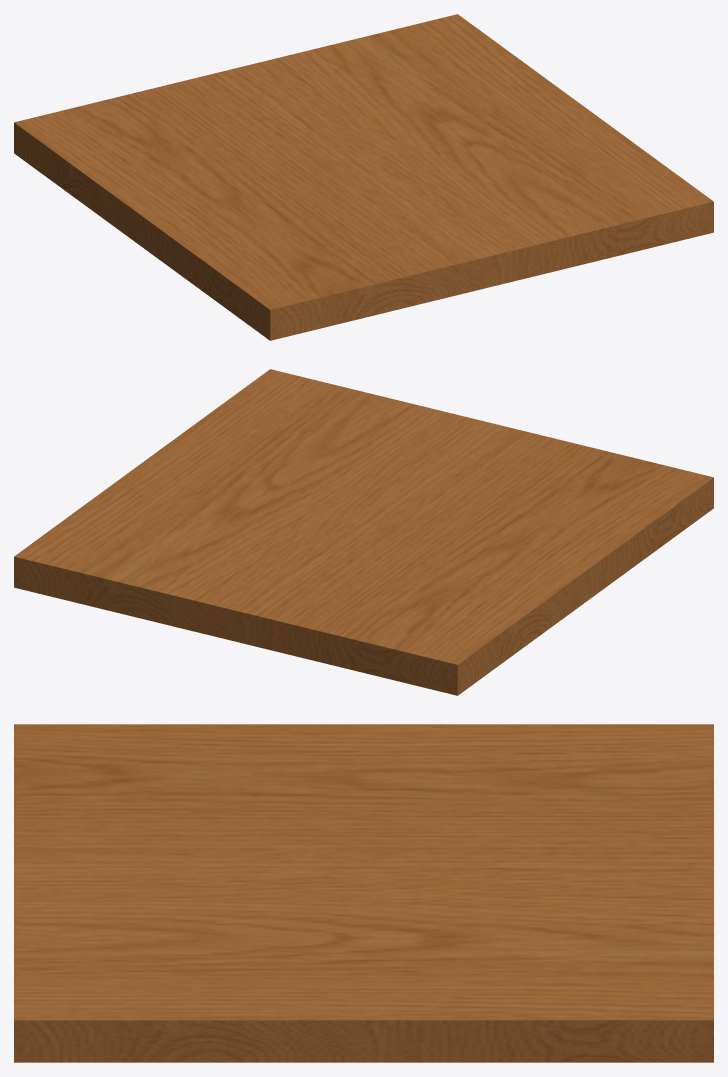
The model's file is Light_CeilingPanel.fbx.
3 renders of one model, top to bottom at view 1: azimuth 30°, elevation 25°; view 2: azimuth 150°, elevation 25°; view 3: azimuth 270°, elevation 25°, orthographic. The views are drawn at different scales.
Parts seen in each view (by area): view 1: Light_CeilingPanel; view 2: Light_CeilingPanel; view 3: Light_CeilingPanel.
Part boxes in pixels (box(x1,y1,x2,y2)): Light_CeilingPanel: box(14, 14, 713, 340); Light_CeilingPanel: box(14, 369, 713, 695); Light_CeilingPanel: box(14, 724, 713, 1062).
Size of the model in its own units: 0.6 by 0.042 by 0.6.
